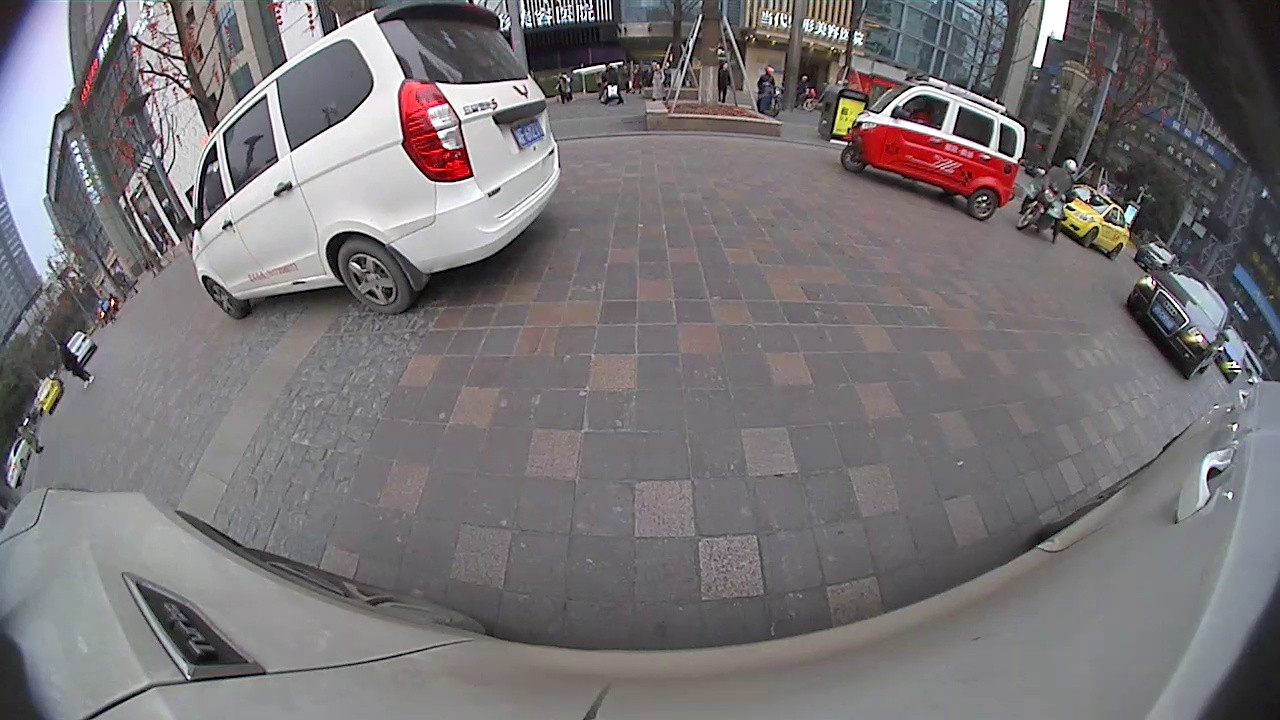car: (190, 1, 563, 320), (1125, 264, 1232, 381), (1046, 178, 1132, 261), (65, 328, 99, 366), (35, 376, 66, 417)
front: (202, 278, 248, 323), (837, 141, 867, 175)
person: (56, 341, 73, 389)
rear: (333, 235, 415, 318), (965, 179, 1000, 223)
rider: (839, 73, 1029, 220), (1015, 158, 1079, 246)
